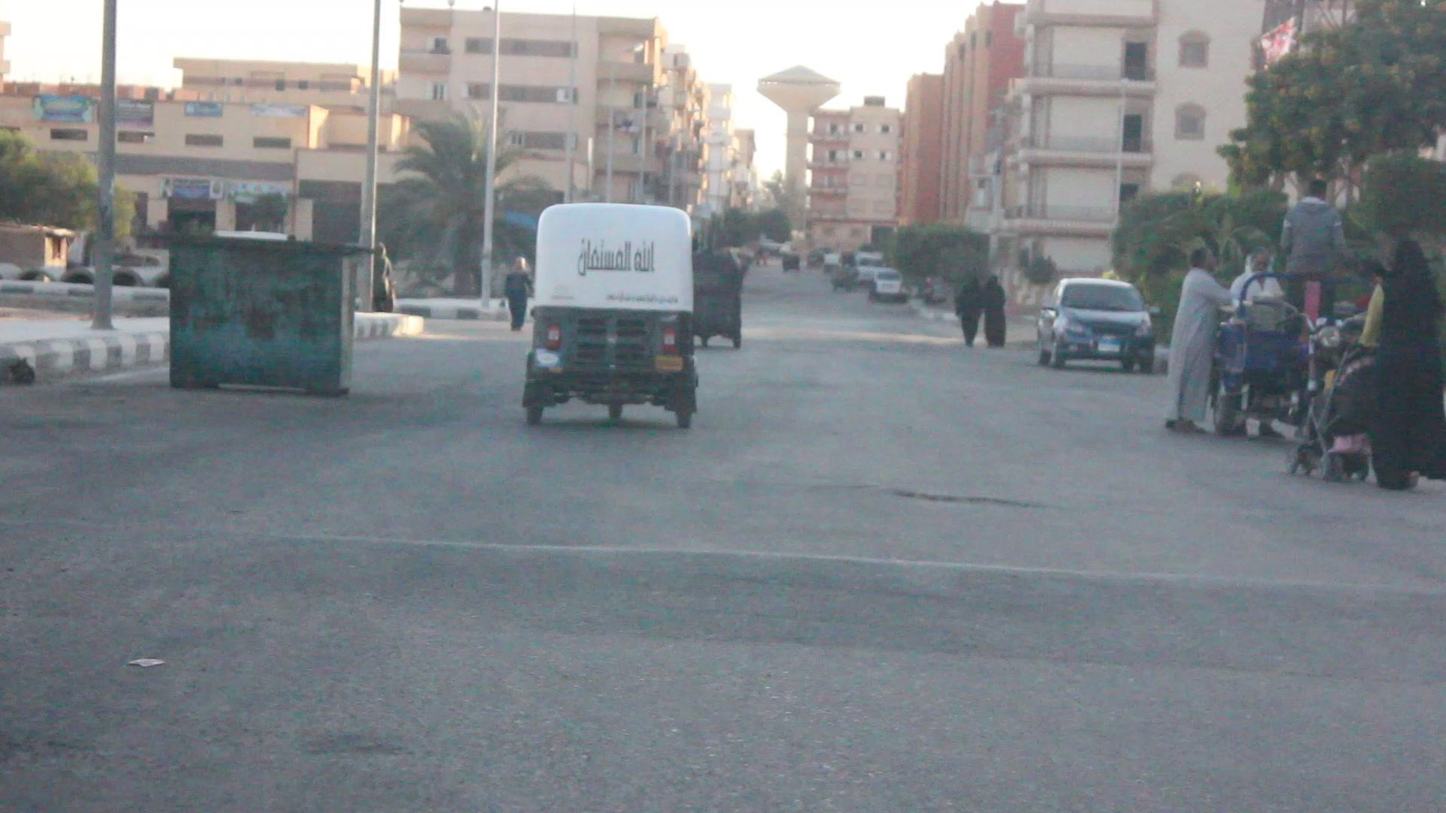Bump: (0, 517, 1445, 677)
